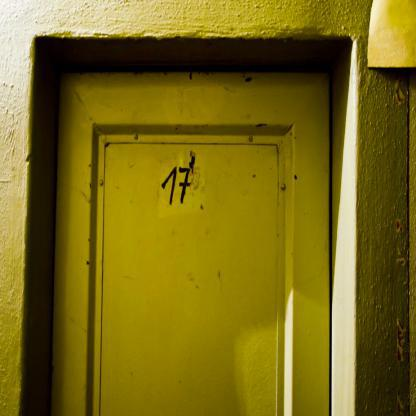door: (99, 132, 289, 416)
